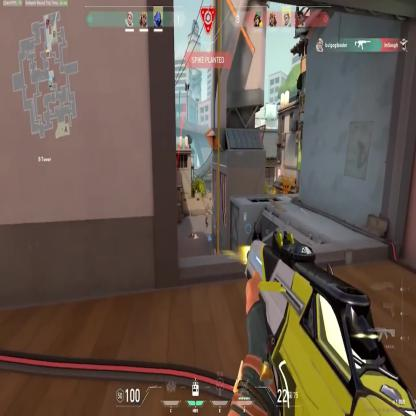enemy: (204, 210, 209, 227)
enemy_head: (205, 210, 207, 214)
